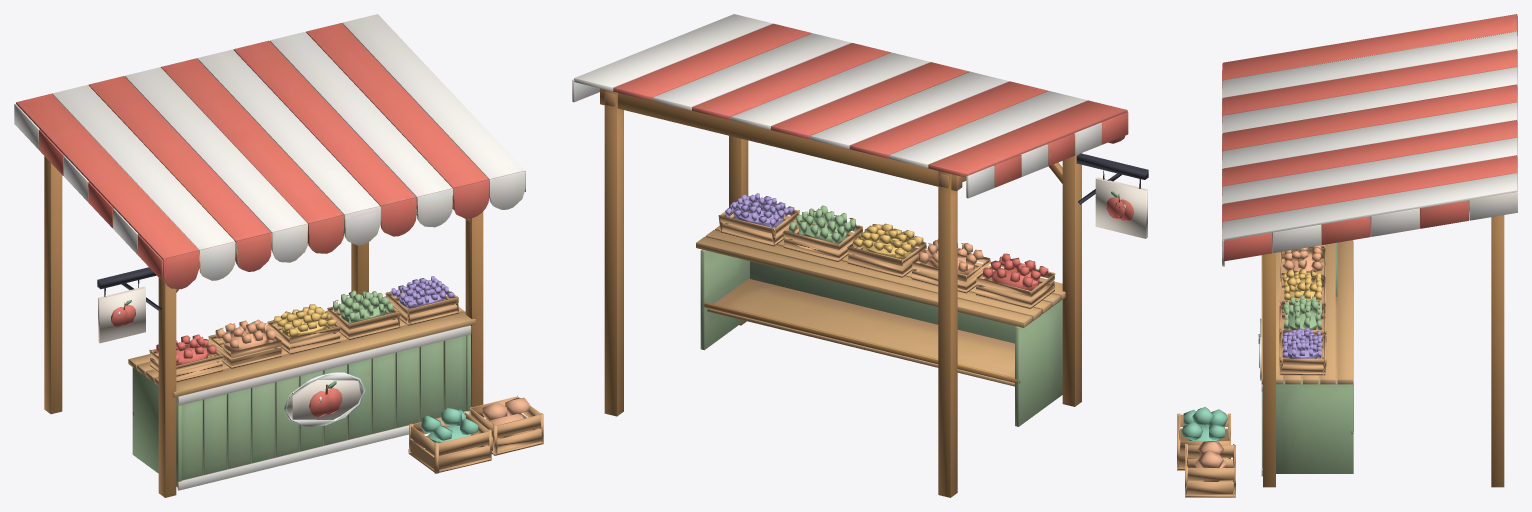
The model's file is market-stall.glb.
3 views of the same model, side by side, from view 1: azimuth 30°, elevation 25°; view 2: azimuth 150°, elevation 25°; view 3: azimuth 270°, elevation 25° (orthographic). The views are drawn at different scales.
Visible parts, largest first — view 1: market-stall_body, market-stall_crates; view 2: market-stall_body, market-stall_crates; view 3: market-stall_body, market-stall_crates.
Part boxes in pixels (x1,y1,x2,y2): market-stall_body: (14, 14, 525, 497); market-stall_crates: (97, 267, 543, 473); market-stall_body: (572, 14, 1128, 497); market-stall_crates: (718, 153, 1148, 308); market-stall_body: (1222, 14, 1517, 487); market-stall_crates: (1177, 244, 1326, 497).
Bounding box in the file's own units: 3.64 × 2.65 × 2.66.
Materials: 2 (2 with a texture image).
